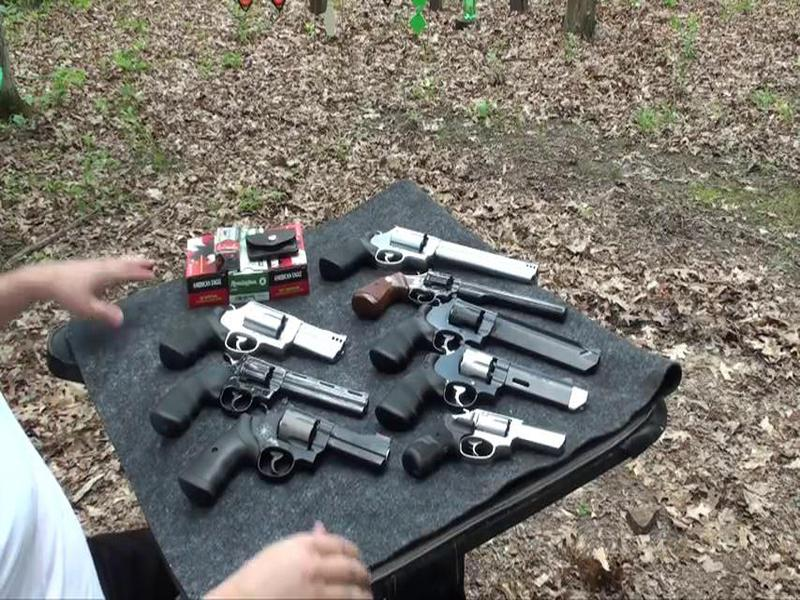Revolver: (153, 288, 348, 369)
